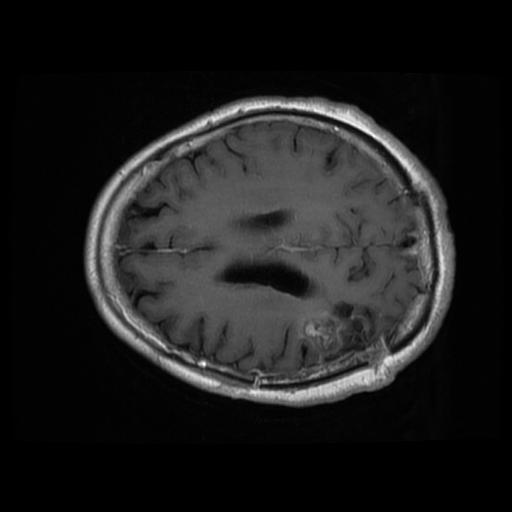glioma: (292, 299, 376, 365)
